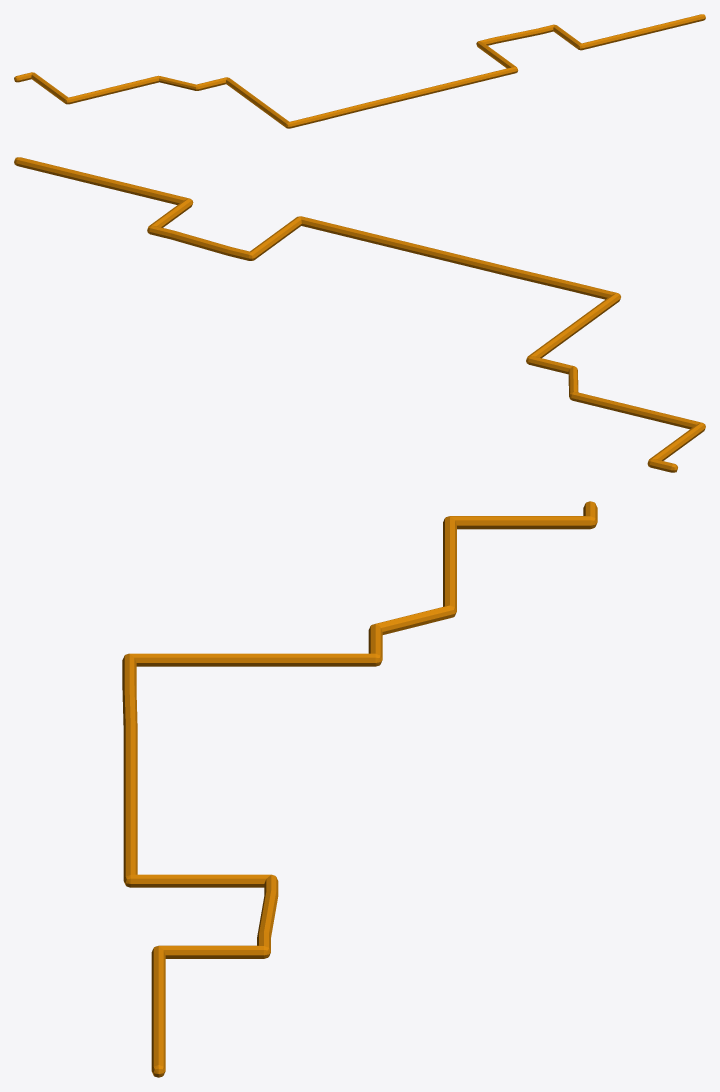
The picture shows the model from 3 angles, top to bottom: view 1: azimuth 30°, elevation 25°; view 2: azimuth 150°, elevation 25°; view 3: azimuth 270°, elevation 25°; orthographic projection. The views are drawn at different scales.
Bounding box in the file's own units: 1916 × 20 × 676.
